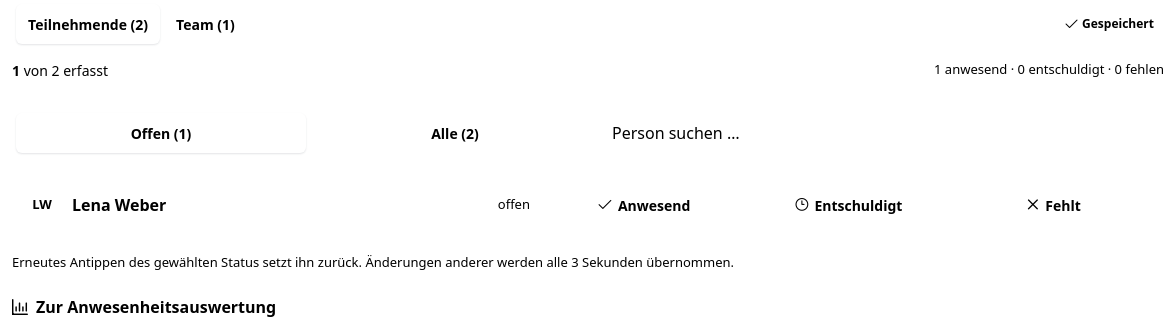
Test: AttendanceManager › rolls back and says so when saving fails
Click the button "Anwesend".
click(644, 205)  # box [546,181,743,229]
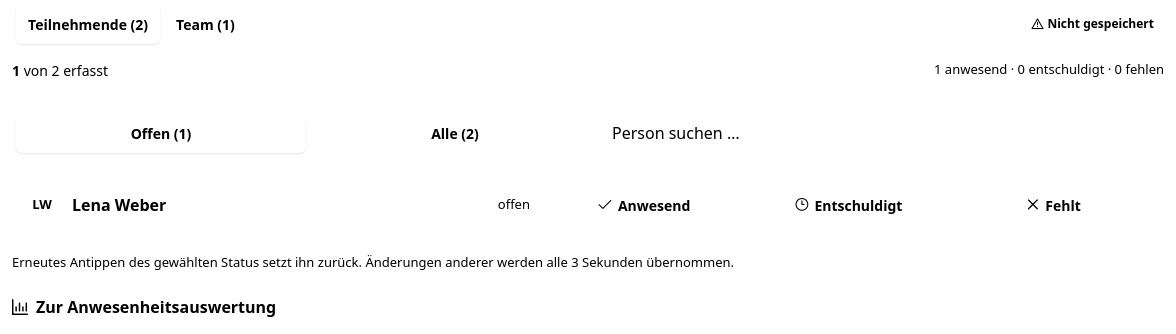
Check: the message with class "save-state" reads "Nicht gespeichert", box [1047,15,1154,32]
